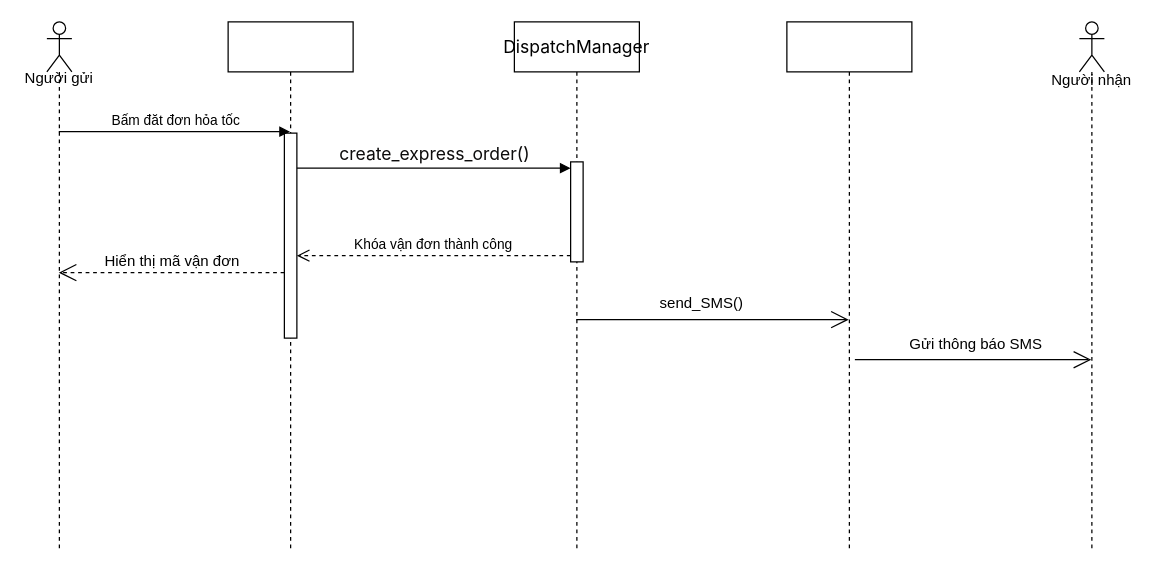
The diagram is 1166 pixels wide and 570 high, and some of its shapes have lost their labels. Each missing label, with the box of its shape:
ExpressAppUI: (227, 21, 353, 548)
SMSThread: (786, 21, 912, 548)
